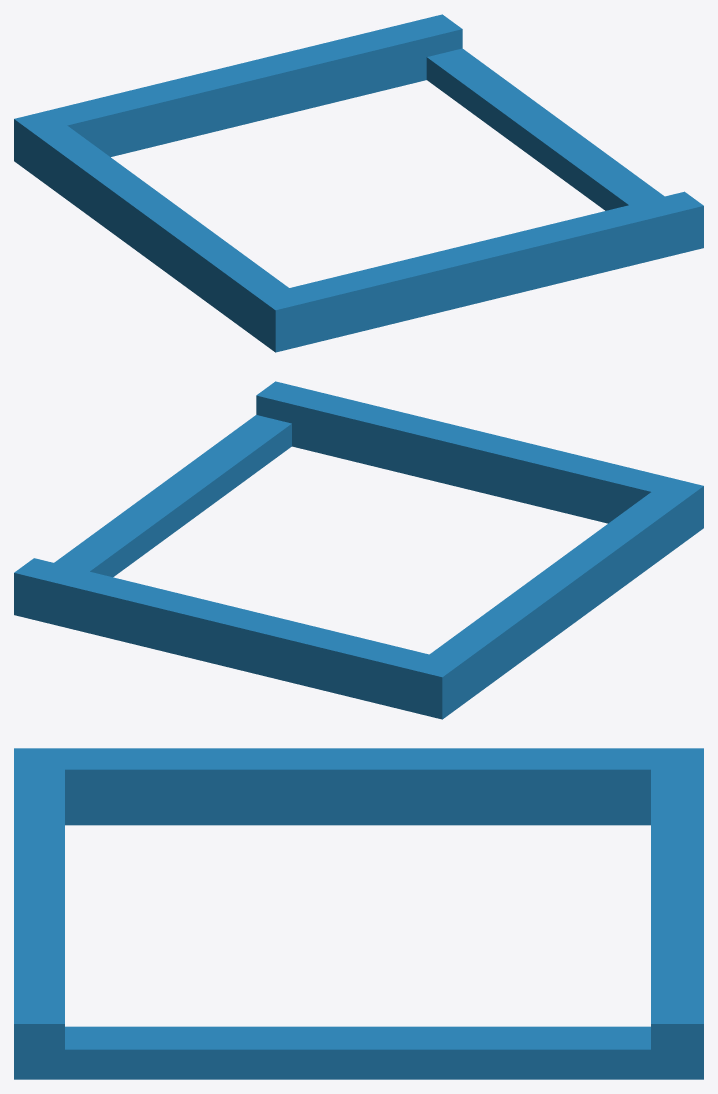
Rendered from EntranceMap.obj.
3 views of the same model, one above another, from view 1: azimuth 30°, elevation 25°; view 2: azimuth 150°, elevation 25°; view 3: azimuth 270°, elevation 25° (orthographic). The views are drawn at different scales.
Parts seen in each view (by area): view 1: Cube; view 2: Cube; view 3: Cube.
Part boxes in pixels (box(x1,y1,x2,y2)): Cube: box(14, 14, 703, 352); Cube: box(14, 381, 703, 719); Cube: box(14, 748, 703, 1079).
Size of the model in its own units: 16.54 by 1.56 by 17.49.
Materials: 1 (1 with a texture image).
